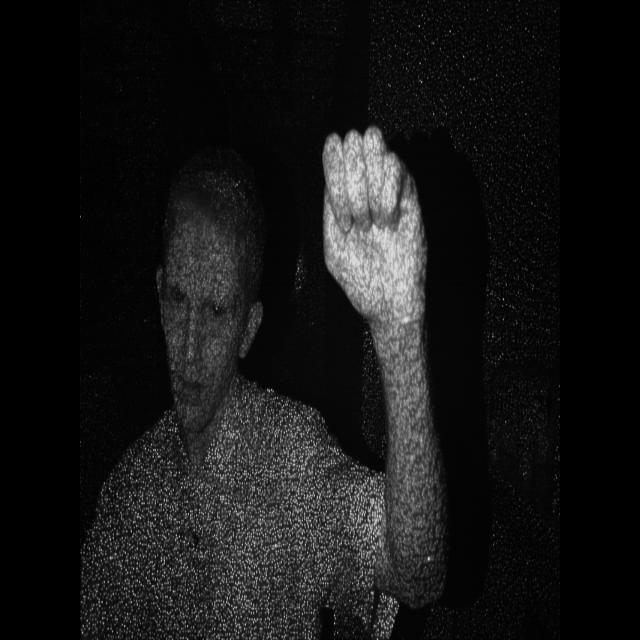E: (306, 116, 436, 365)
